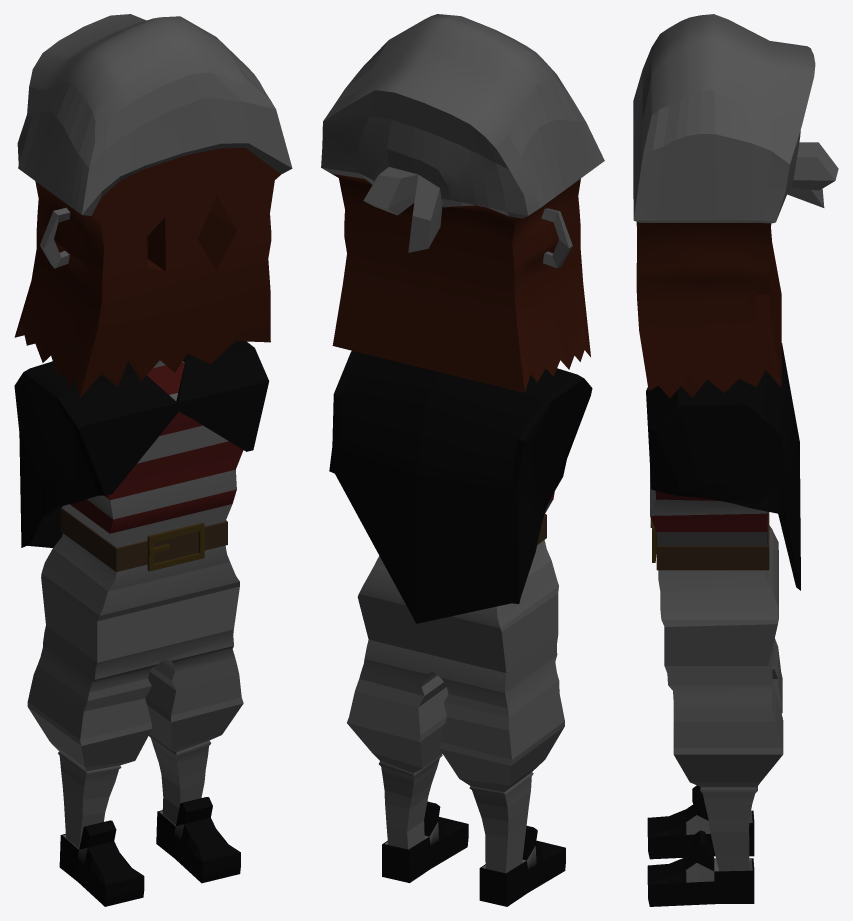
The model's file is bimbo.fbx.
3 renders of one model, left to right at view 1: azimuth 30°, elevation 25°; view 2: azimuth 150°, elevation 25°; view 3: azimuth 270°, elevation 25°, orthographic.
Visible parts, largest first — view 1: Bimbo3; view 2: Bimbo3; view 3: Bimbo3.
Boxes of the visible parts, bbox=[...] form: Bimbo3: bbox=[14, 14, 292, 906]; Bimbo3: bbox=[321, 14, 604, 906]; Bimbo3: bbox=[633, 14, 838, 906].
Bounding box in the file's own units: 1.8 × 6.81 × 1.48.
